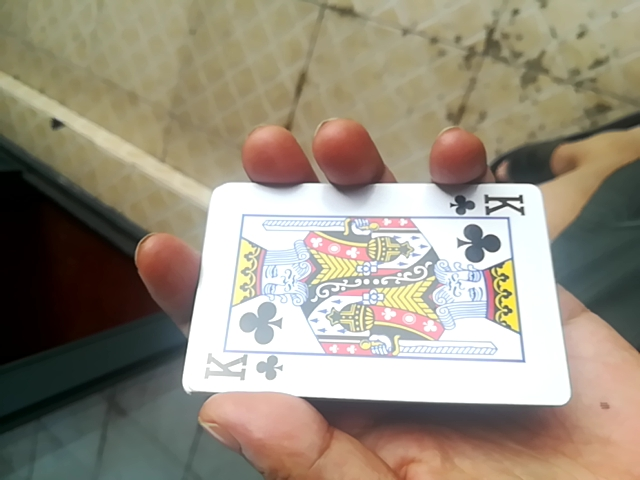mh k: (178, 180, 567, 410)
